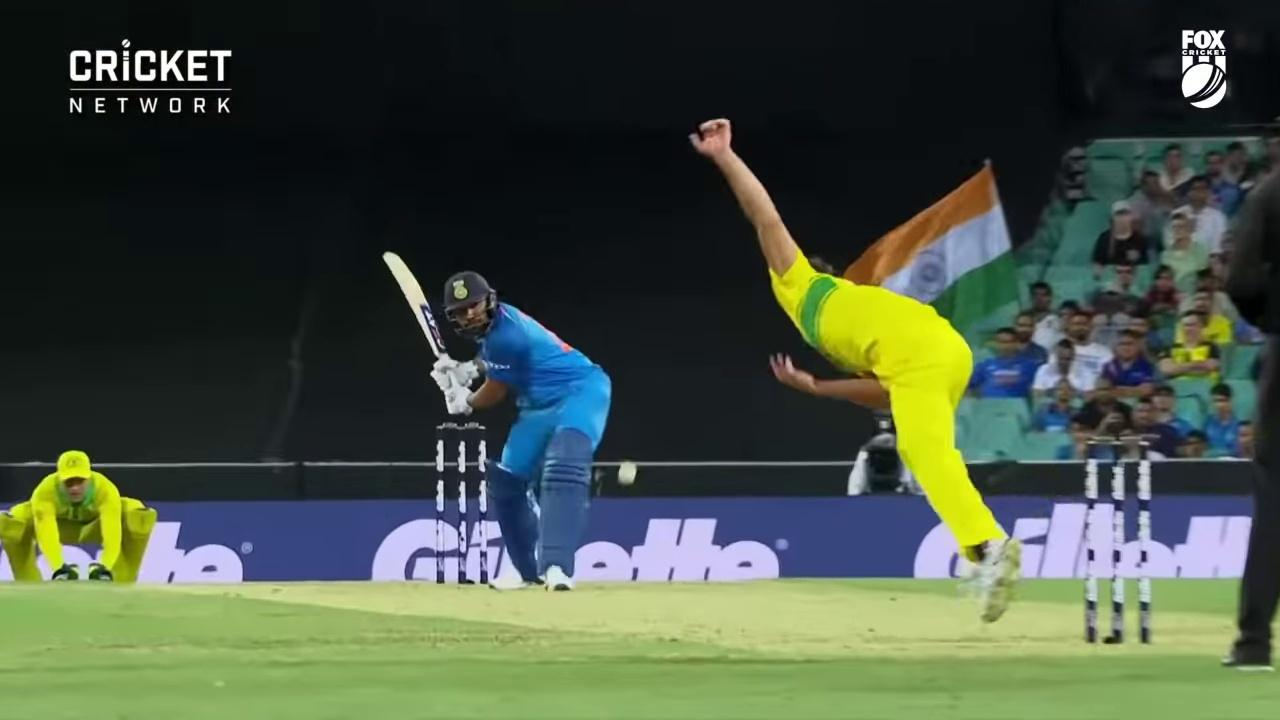batsman: (381, 252, 612, 593)
